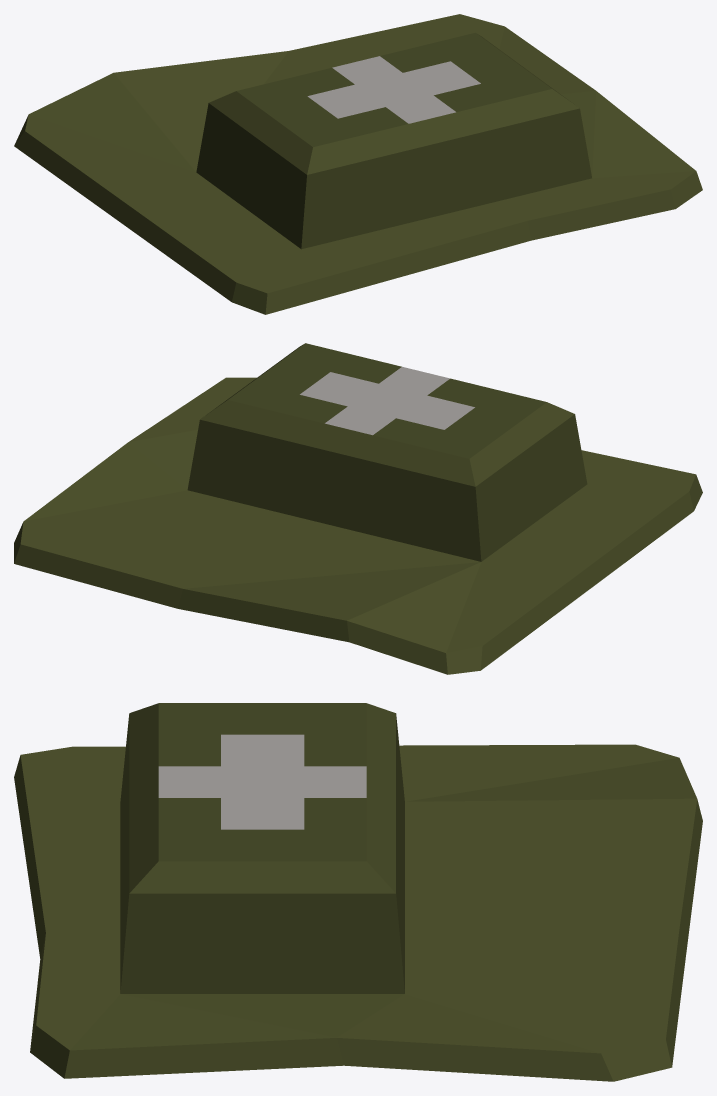
File: SM_Prop_Gauze_01.glb
The picture shows the model from 3 angles, top to bottom: view 1: azimuth 30°, elevation 25°; view 2: azimuth 150°, elevation 25°; view 3: azimuth 270°, elevation 25°; orthographic projection. The views are drawn at different scales.
Parts seen in each view (by area): view 1: SM_Prop_Gauze_01; view 2: SM_Prop_Gauze_01; view 3: SM_Prop_Gauze_01.
Boxes of the visible parts, left/top/right/bottom form: SM_Prop_Gauze_01: left=14, top=14, right=702, bottom=314; SM_Prop_Gauze_01: left=14, top=343, right=702, bottom=674; SM_Prop_Gauze_01: left=14, top=703, right=702, bottom=1081.
Bounding box in the file's own units: 0.3554 × 0.0741 × 0.3286.
1 material, 1 textured.
